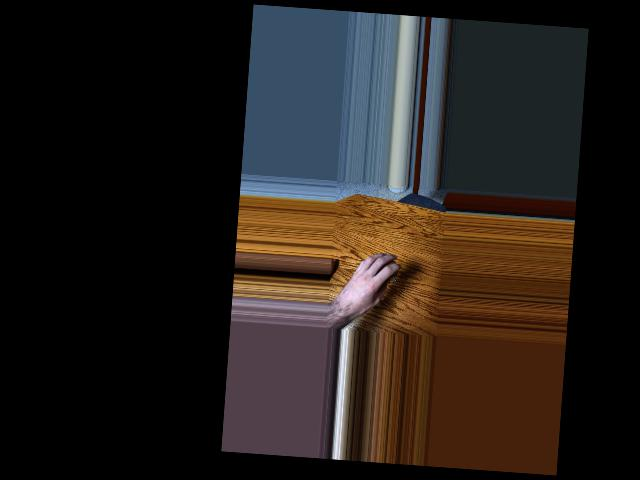onion: (372, 257, 399, 284)
